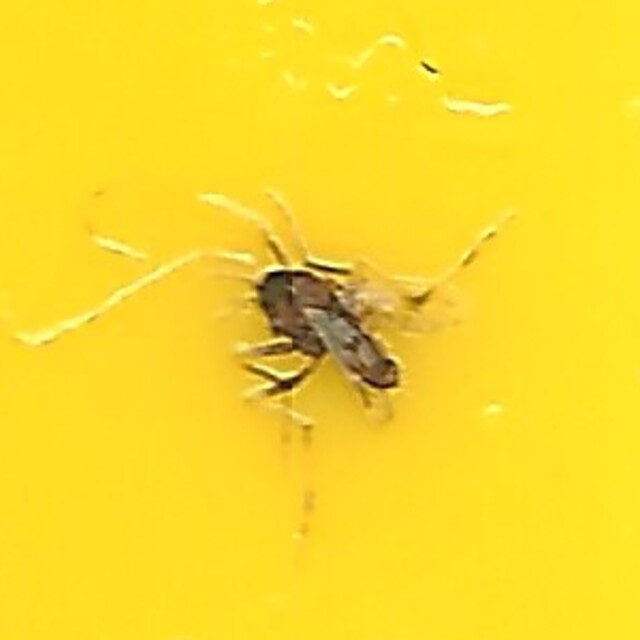Nematocera: (213, 229, 427, 411)
